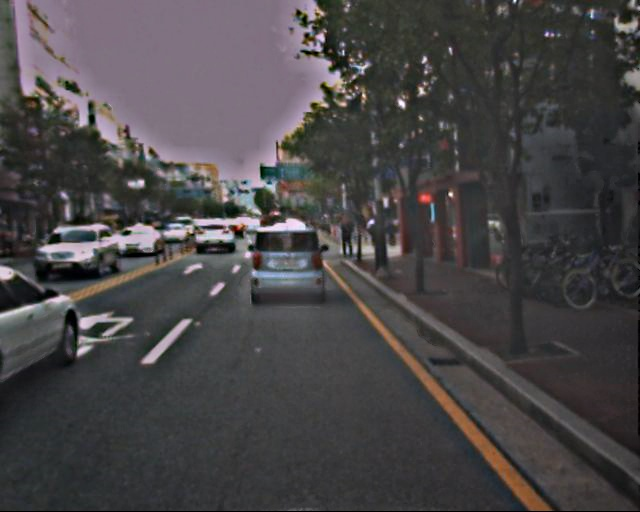person: (337, 214, 356, 261)
